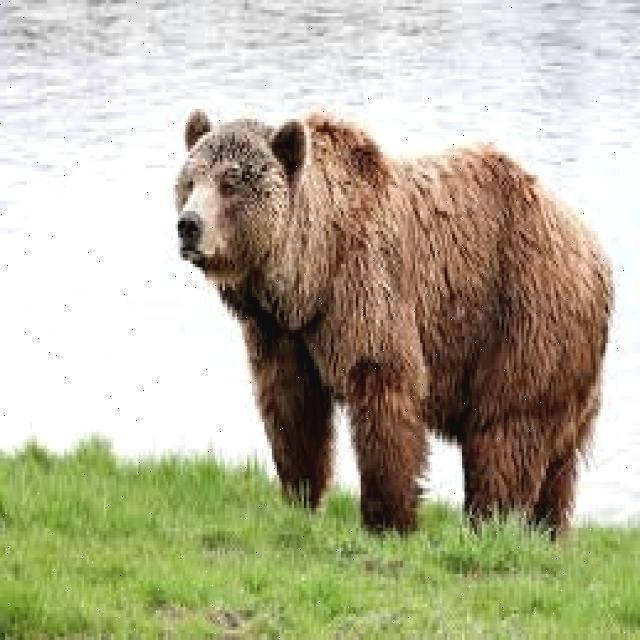bear: (178, 118, 558, 453)
